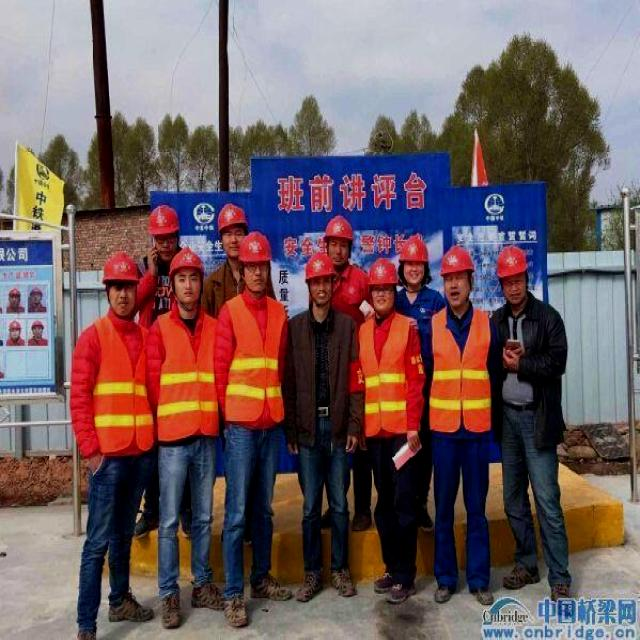face_nomask: (500, 270, 534, 307), (443, 266, 469, 311), (173, 268, 202, 306), (107, 280, 139, 312), (150, 231, 180, 265), (244, 259, 270, 296), (221, 227, 248, 262), (309, 276, 332, 311), (327, 239, 353, 269), (371, 283, 395, 311), (405, 258, 426, 289)
hand_noglove: (403, 424, 423, 459), (501, 343, 517, 378), (340, 432, 360, 460)
head_helmet: (495, 241, 528, 278), (102, 250, 139, 282), (439, 242, 473, 274), (166, 246, 204, 274), (148, 203, 180, 233), (238, 231, 270, 261), (215, 200, 247, 228), (322, 214, 354, 242), (398, 234, 430, 262), (304, 250, 336, 278), (368, 256, 398, 284)
person: (222, 231, 296, 622), (77, 255, 150, 629), (152, 252, 225, 614), (491, 244, 564, 597), (286, 246, 355, 600), (426, 243, 494, 596), (359, 260, 421, 592), (393, 231, 446, 339), (327, 210, 367, 325), (138, 197, 180, 304), (207, 198, 250, 298)
shoes: (546, 559, 580, 616), (104, 588, 156, 625), (291, 558, 329, 603), (248, 565, 292, 603), (501, 556, 545, 592), (380, 575, 421, 610), (156, 585, 184, 635), (189, 577, 229, 612), (222, 583, 249, 631), (427, 569, 462, 605), (328, 560, 357, 603), (474, 572, 499, 605)
vest: (85, 316, 155, 452), (153, 312, 222, 434), (222, 291, 286, 420), (358, 312, 422, 438), (426, 307, 491, 431)
